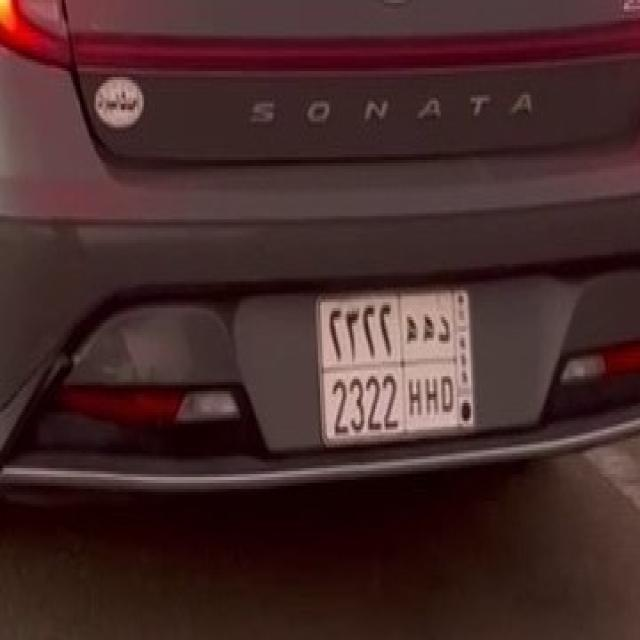Car-plate: (310, 286, 478, 435)
